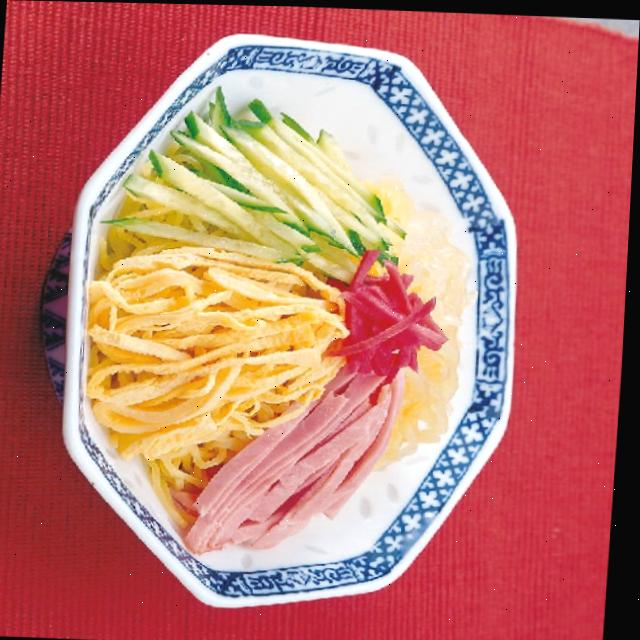面条主食: (40, 18, 544, 625)
